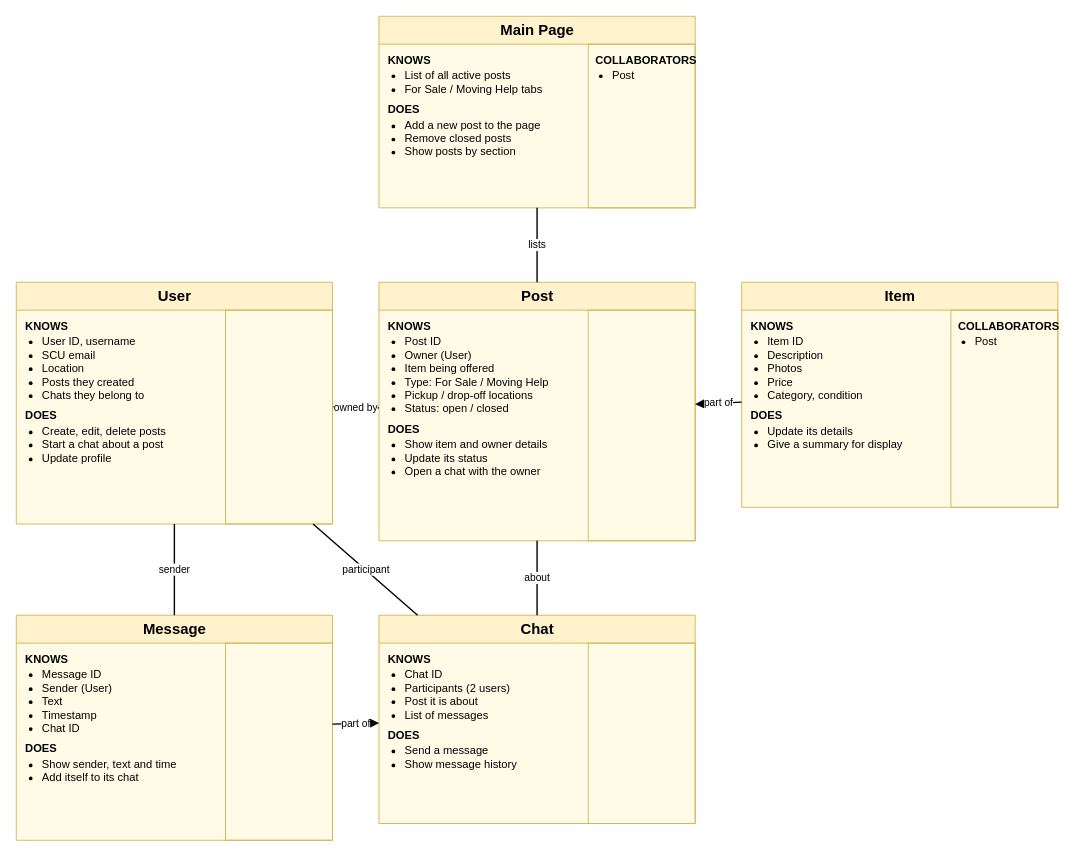
Image size: 1076x857. Some labels were removed from this diagram. The shapes that lost their labels are listed below. From the top down, each one's centre as x and y in pixels, then its label:
(278,416): COLLABORATORS Post Chat Message
(641,425): COLLABORATORS User Item Chat Main Page
(278,741): COLLABORATORS User Chat
(641,733): COLLABORATORS User Post Message
